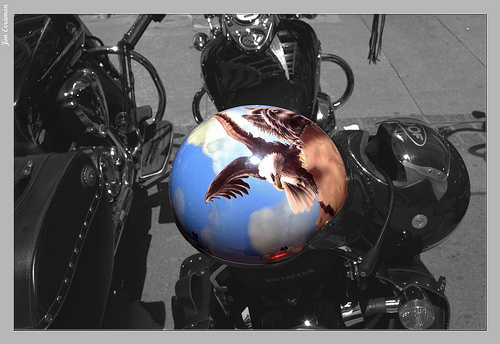helmet: (162, 120, 373, 278), (334, 105, 479, 267)
